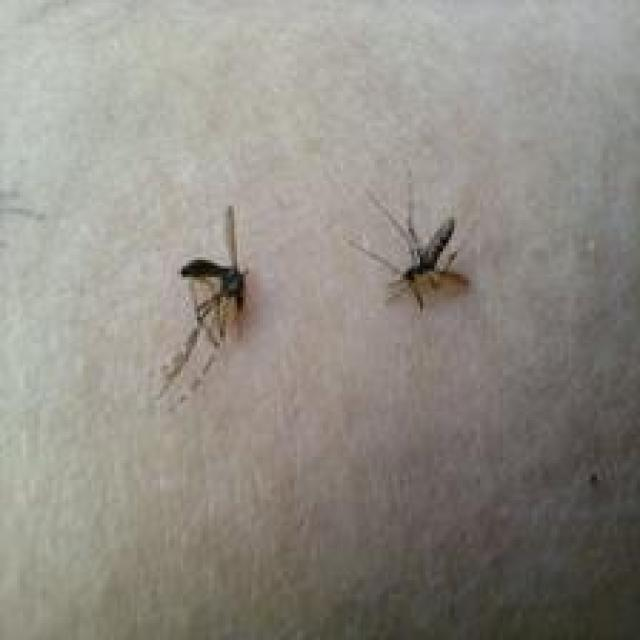Aedes albopictus: (154, 203, 252, 403)
